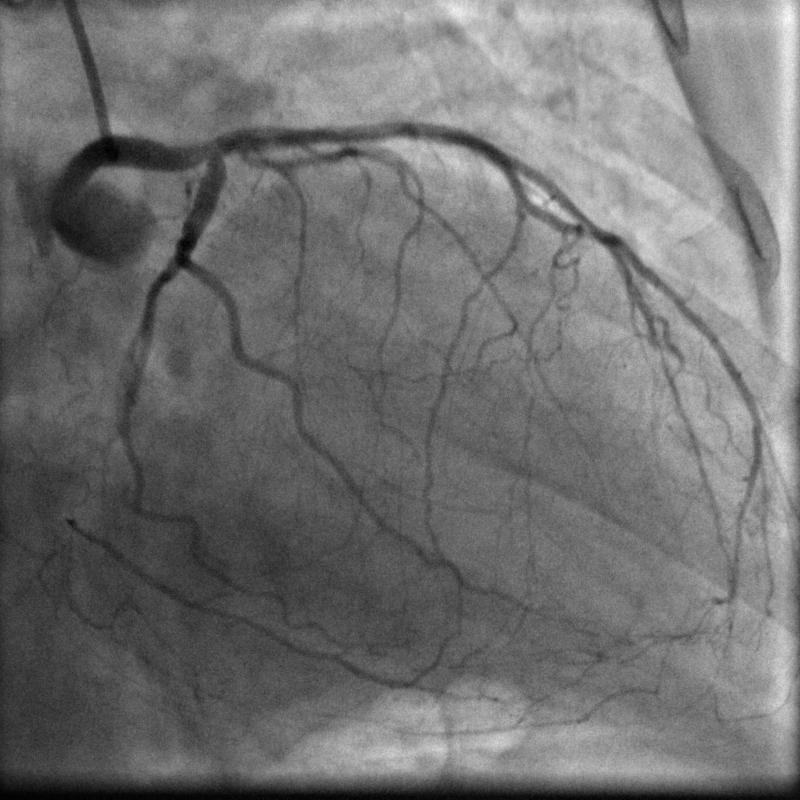Stenosis: (323, 120, 394, 139)
